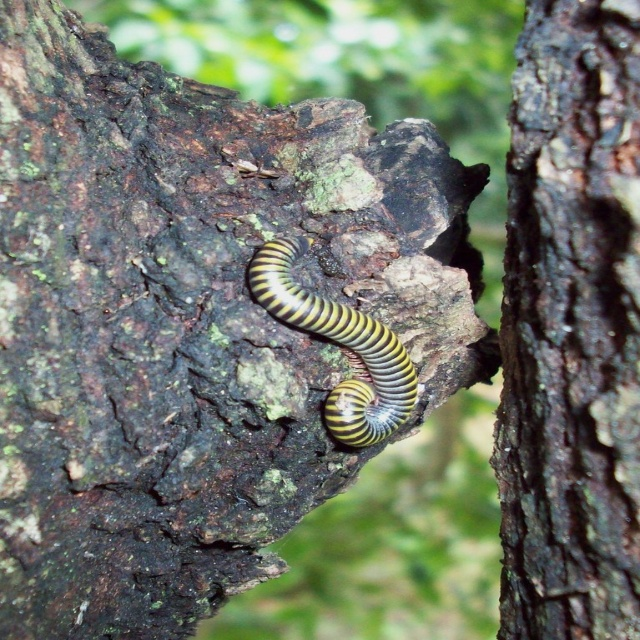Caterpillar: (249, 236, 418, 448)
